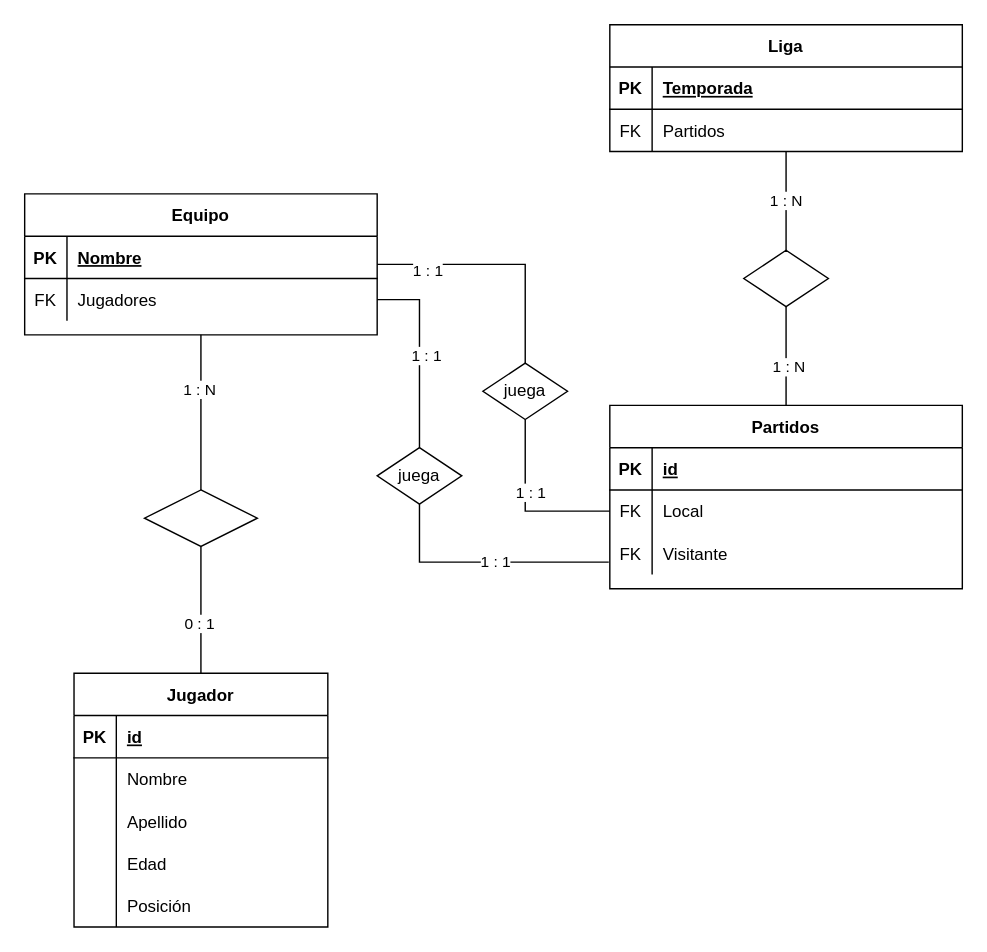
The diagram is 987 pixels wide and 952 high, and some of its shapes have lost their labels. The centre of each missing label's shape, as x and y in pixels:
pertenece: (x=200, y=517)
tiene: (x=785, y=278)
